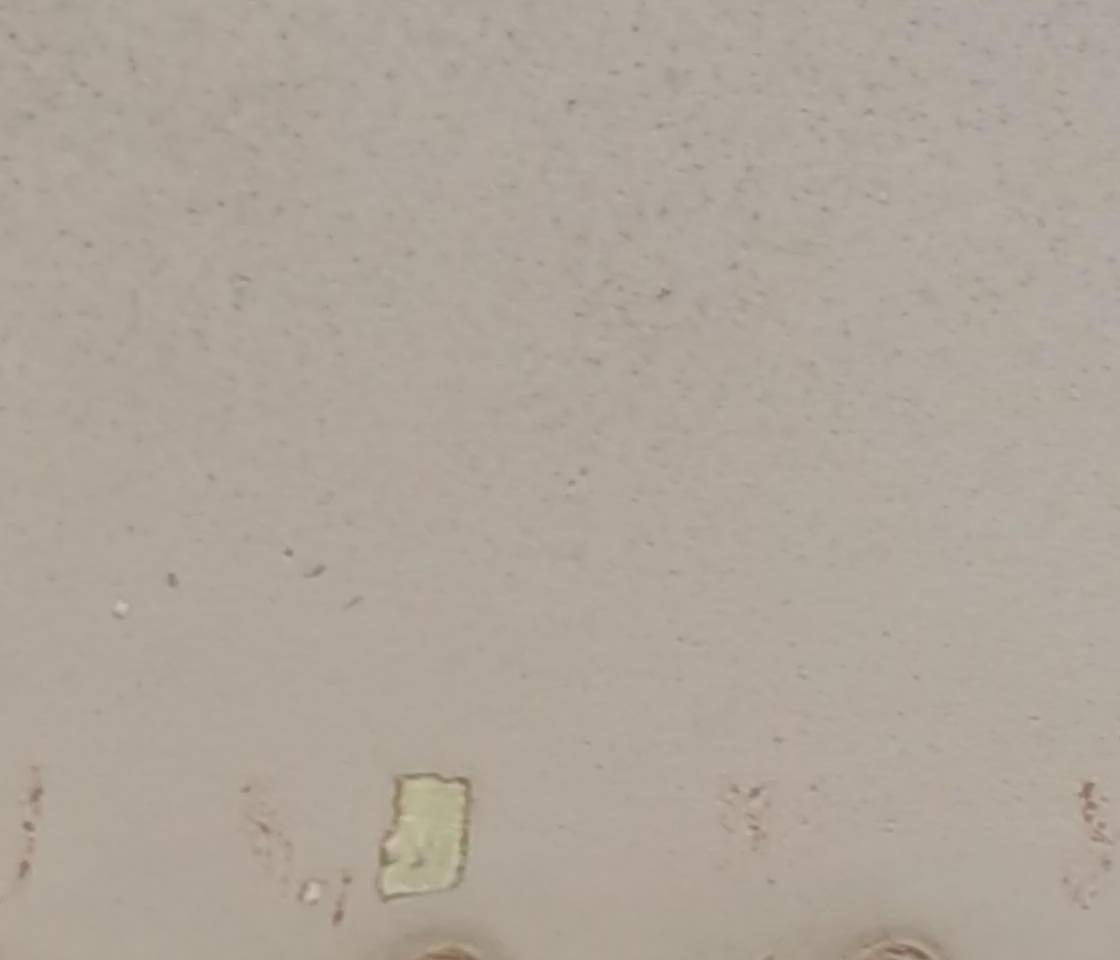paint_peel: (374, 763, 480, 911)
